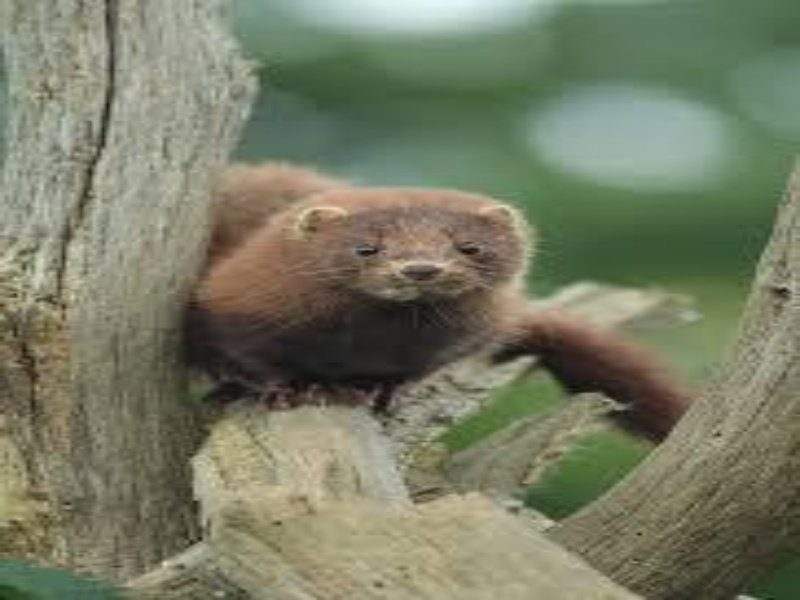minkish: (186, 156, 707, 449)
